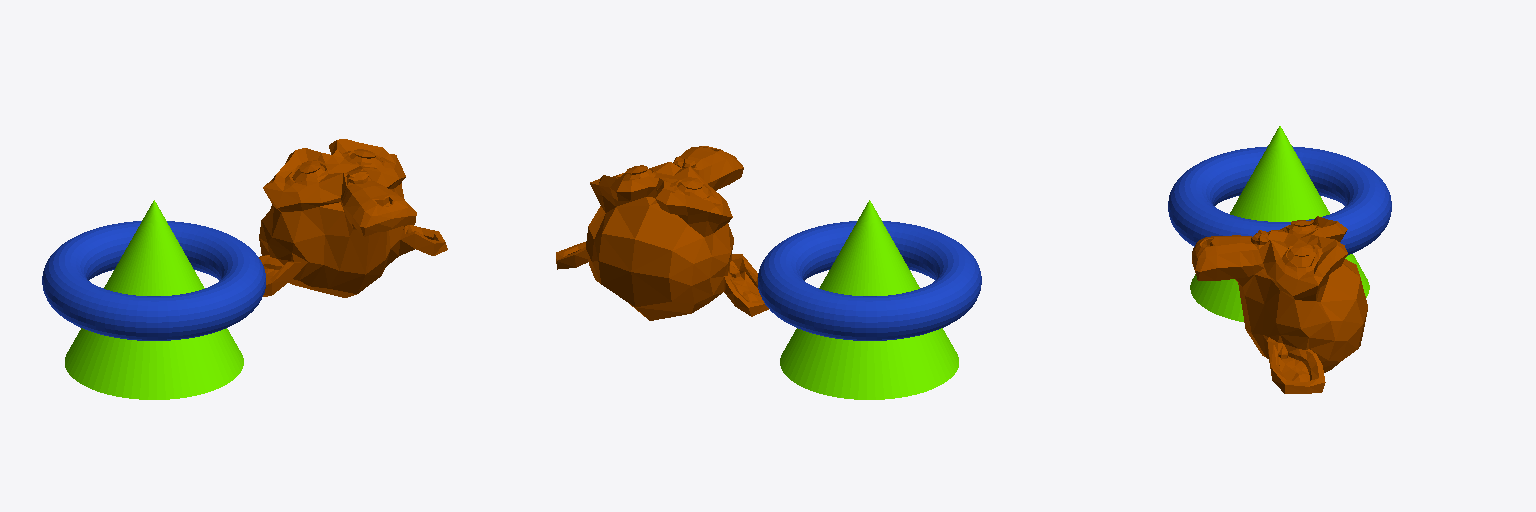
Rendered from simple.obj.
3 views of the same model, side by side, from view 1: azimuth 30°, elevation 25°; view 2: azimuth 150°, elevation 25°; view 3: azimuth 270°, elevation 25° (orthographic).
Parts seen in each view (by area): view 1: Suzanne, Torus.002, Cone; view 2: Suzanne, Torus.002, Cone; view 3: Suzanne, Torus.002, Cone.
Part boxes in pixels (x1,y1,x2,y2): Suzanne: (259,139,447,297); Torus.002: (42,221,265,340); Cone: (65,200,243,399); Suzanne: (556,146,768,320); Torus.002: (758,221,981,340); Cone: (780,200,958,399); Suzanne: (1192,216,1367,393); Torus.002: (1168,146,1391,255); Cone: (1190,126,1369,321).
Bounding box in the file's own units: 5.12 × 2 × 2.5.